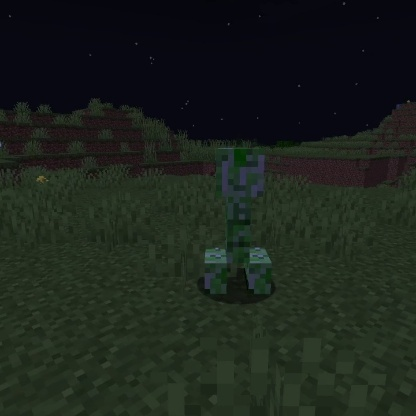creeper: (198, 143, 278, 299)
